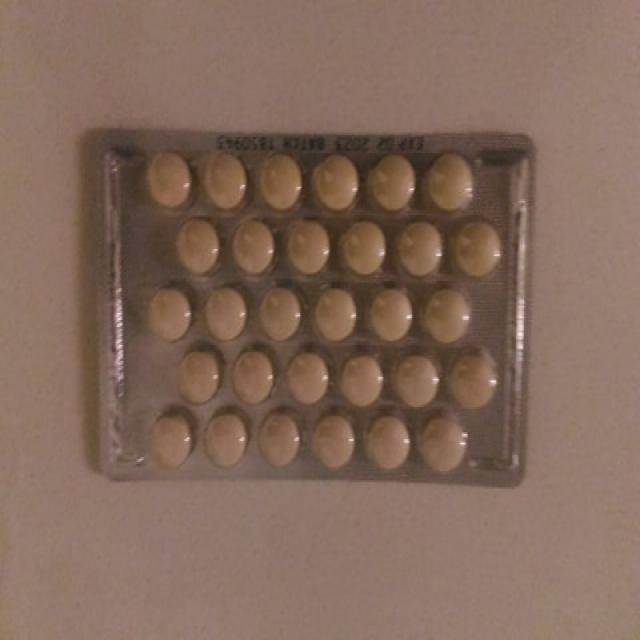Pill: (361, 146, 421, 214), (167, 210, 224, 278), (424, 145, 480, 212), (281, 340, 335, 408), (140, 142, 193, 211), (199, 409, 253, 474), (418, 412, 471, 476), (447, 351, 504, 409), (251, 284, 310, 340), (253, 409, 307, 470), (388, 350, 444, 408), (280, 216, 334, 276), (309, 410, 358, 476), (254, 149, 306, 211), (394, 215, 444, 279), (452, 216, 505, 276), (364, 414, 415, 474), (144, 283, 190, 349), (338, 219, 388, 279), (312, 149, 359, 212), (365, 287, 416, 345), (199, 283, 249, 342), (148, 406, 192, 469), (342, 350, 386, 413), (308, 288, 358, 342), (231, 344, 275, 404), (200, 153, 247, 209), (424, 287, 469, 345), (174, 349, 222, 403), (230, 220, 276, 275)
